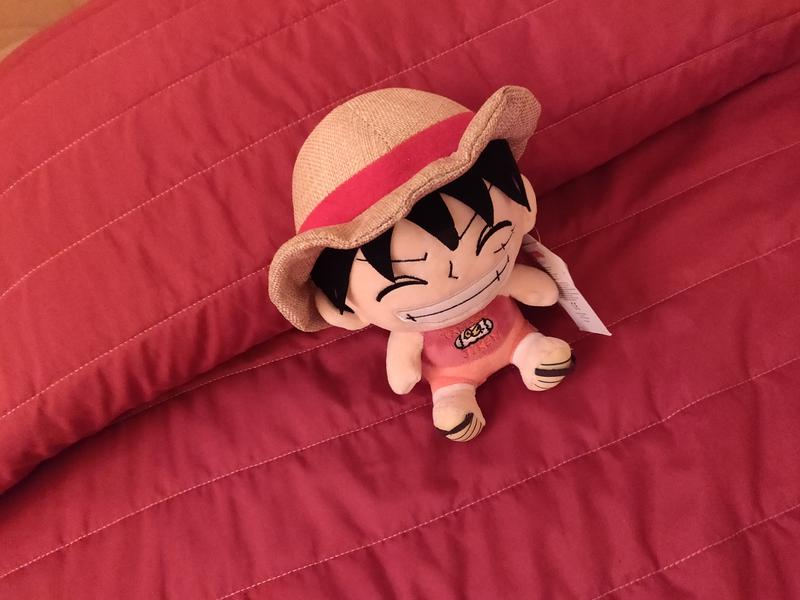rufy: (258, 70, 644, 445)
